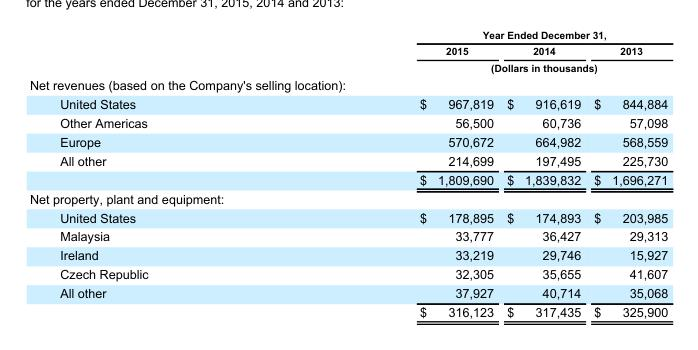table: (28, 28, 667, 318)
table column: (28, 28, 283, 318), (283, 28, 499, 318), (499, 28, 586, 318), (586, 28, 667, 318)
table column header: (28, 28, 667, 75)
table projected row header: (28, 75, 667, 94), (28, 188, 667, 207)
table row: (28, 75, 667, 94), (28, 94, 667, 113), (28, 131, 667, 150), (28, 150, 667, 169), (28, 169, 667, 188), (28, 188, 667, 207), (28, 207, 667, 226), (28, 226, 667, 245), (28, 245, 667, 264), (28, 264, 667, 283), (28, 283, 667, 302), (28, 113, 667, 131), (28, 58, 667, 75), (28, 42, 667, 58), (28, 302, 667, 318), (28, 28, 667, 42)
table spanning cell: (283, 58, 667, 75), (283, 28, 667, 42)
